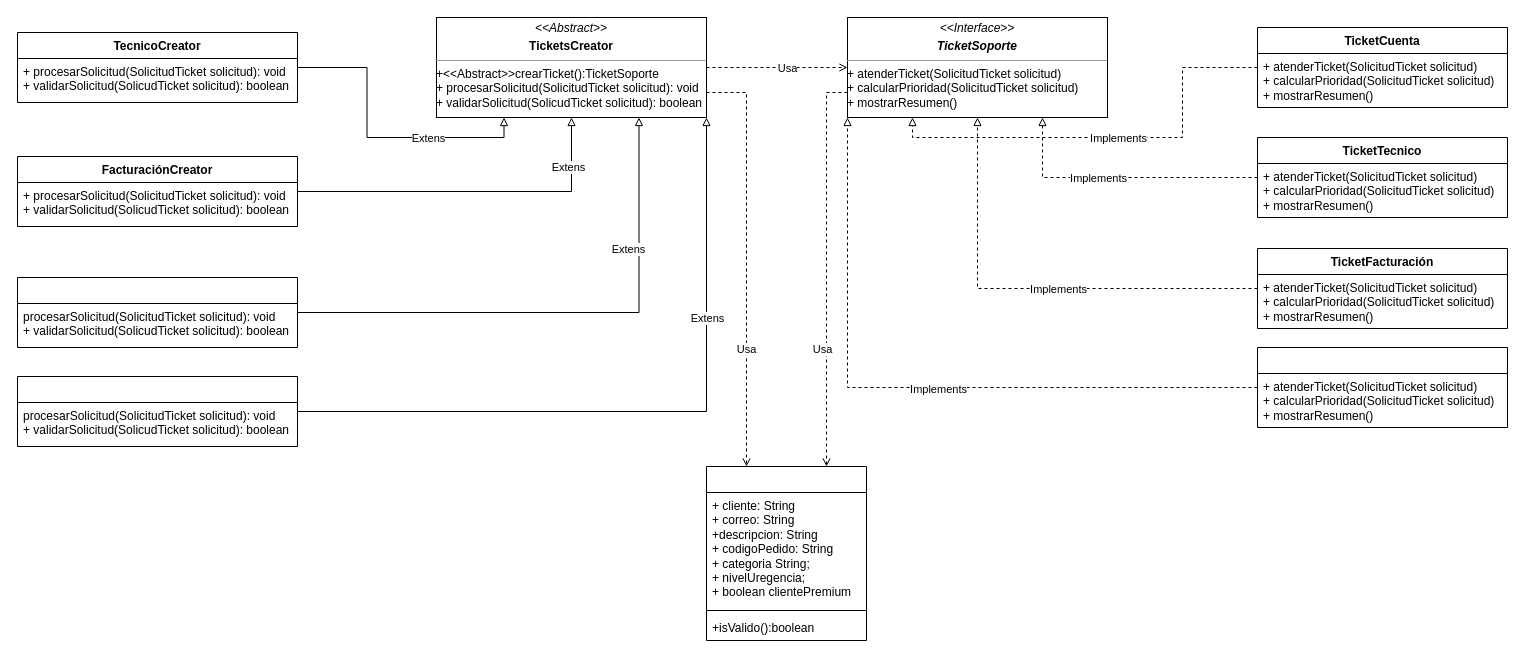
Some shapes in this 1525 by 661 pixel diagram are drawn without their labels. The box of each missing label's shape, as (x1, y1, x2, y2) in pixels:
CuentaCreator: (16, 276, 298, 348)
ReclamoCreator: (16, 376, 298, 446)
SolicitudTicket: (706, 466, 866, 640)
TicketReclamo: (1256, 346, 1508, 428)
